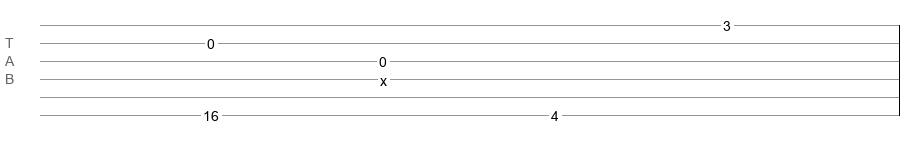0: (207, 36, 215, 46), (379, 54, 387, 64)
16: (203, 108, 219, 118)
3: (723, 18, 731, 28)
4: (551, 108, 559, 118)
x: (380, 73, 387, 81)
